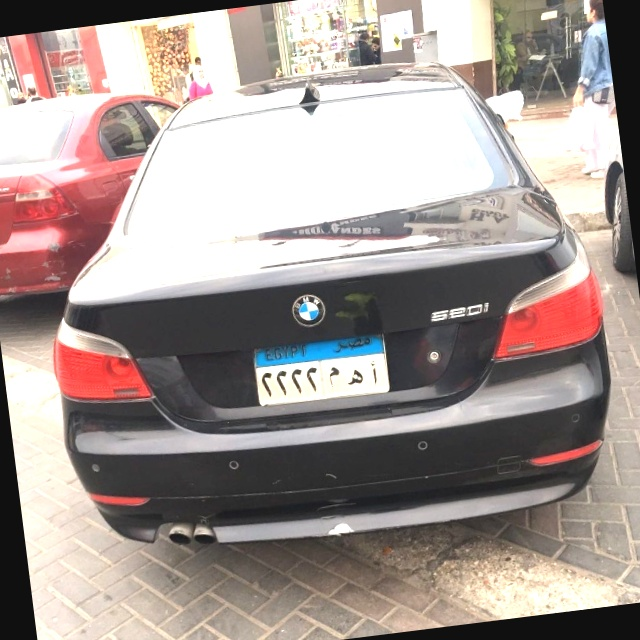License Plate: (252, 331, 391, 408)
